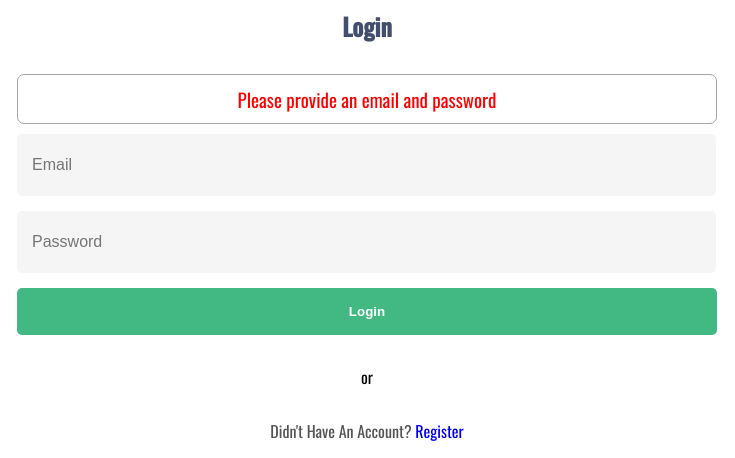
Test case: login component interaction › email register or not
The width and height of the screenshot is (735, 458).
Type "test@gmail.com" into the field with placeholder "Email" at coordinates (366, 165), box [17,134,716,196]
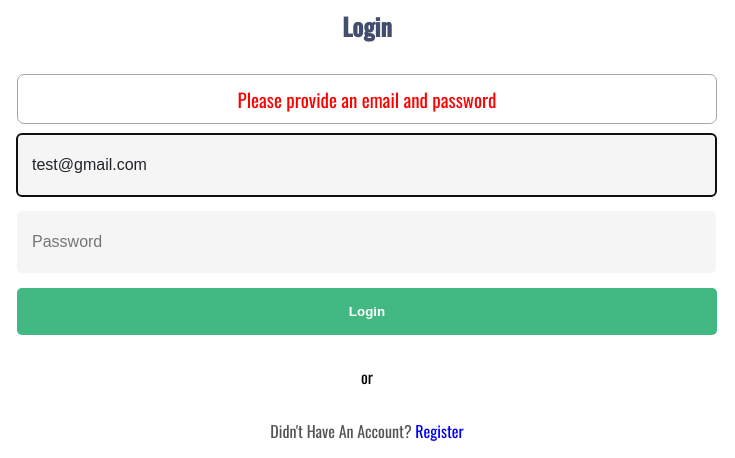
Type "1234" into the password field with placeholder "Password" at coordinates (366, 242), box [17,211,716,273]
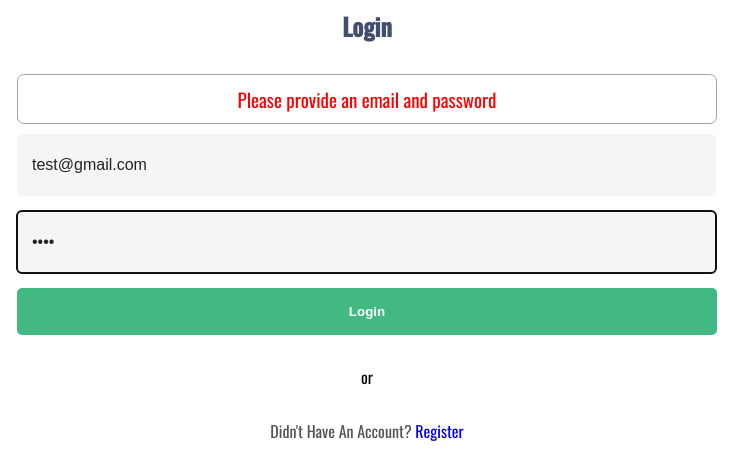
Click the button "Login" at coordinates (367, 312), box [17,288,717,335]
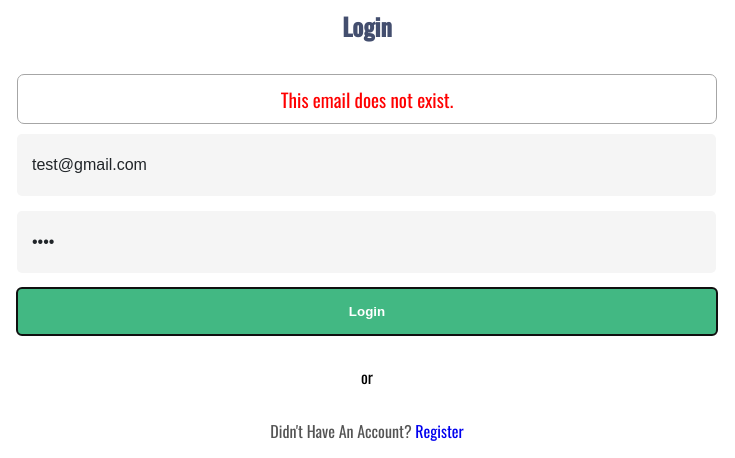
Expected: the text "This email does not exist." is shown, [17,74,717,124]
